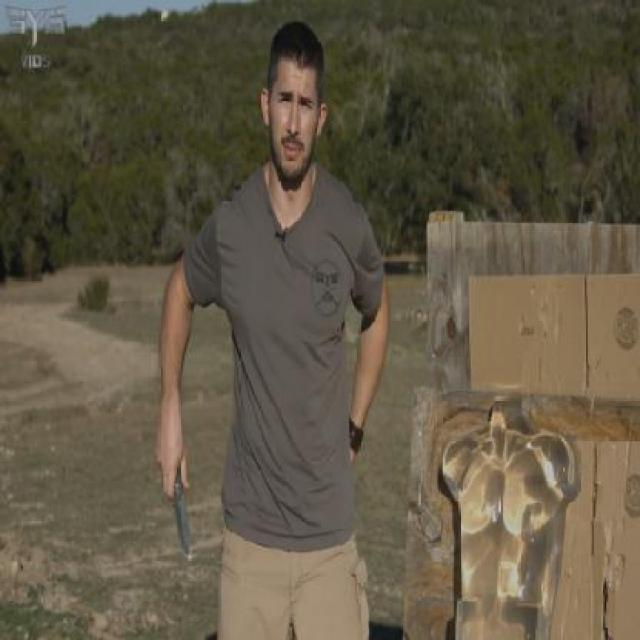-: (154, 434, 198, 574)
